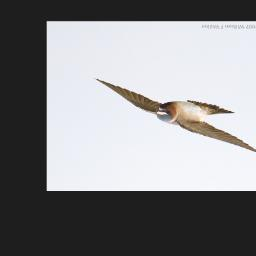Swallow: (94, 79, 256, 158)
